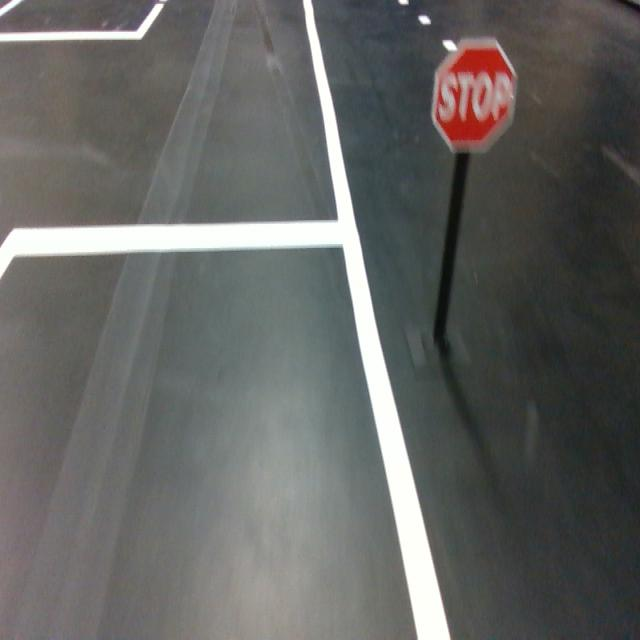stop-sign: (430, 35, 519, 155)
